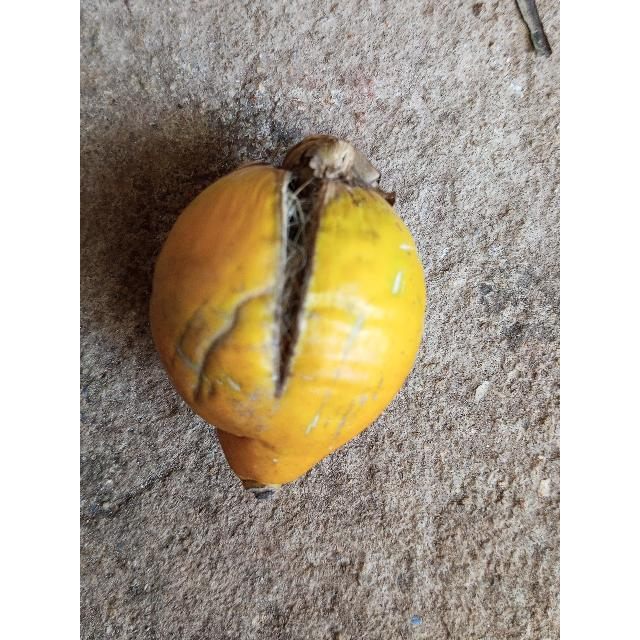damaged: (150, 135, 426, 498)
